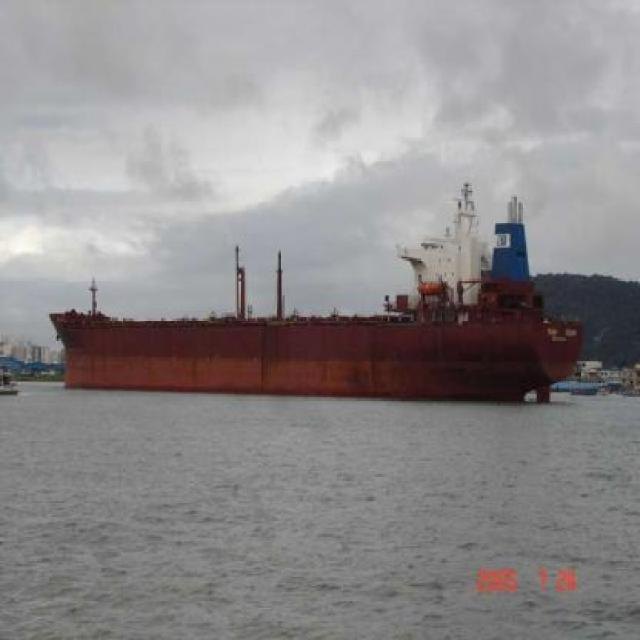ship: (48, 184, 594, 399)
